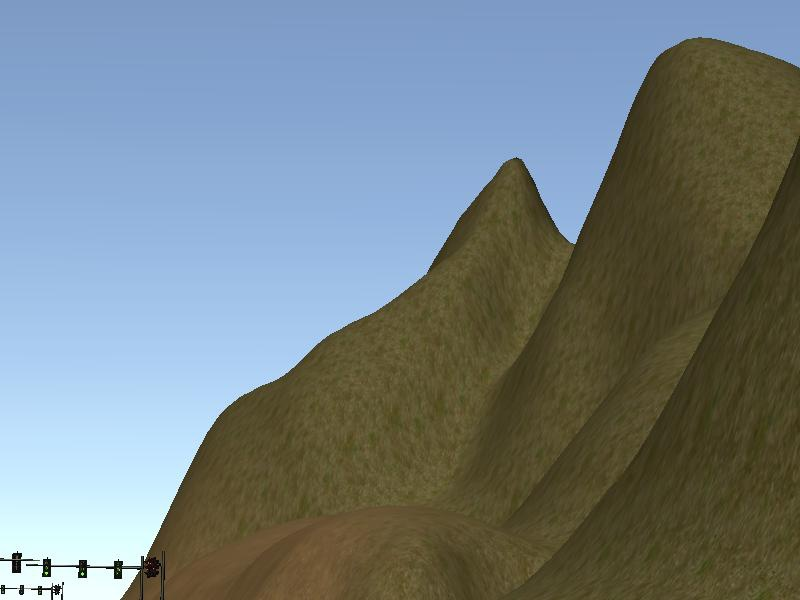Green: (78, 559, 86, 577), (114, 560, 121, 579), (44, 559, 50, 576)
